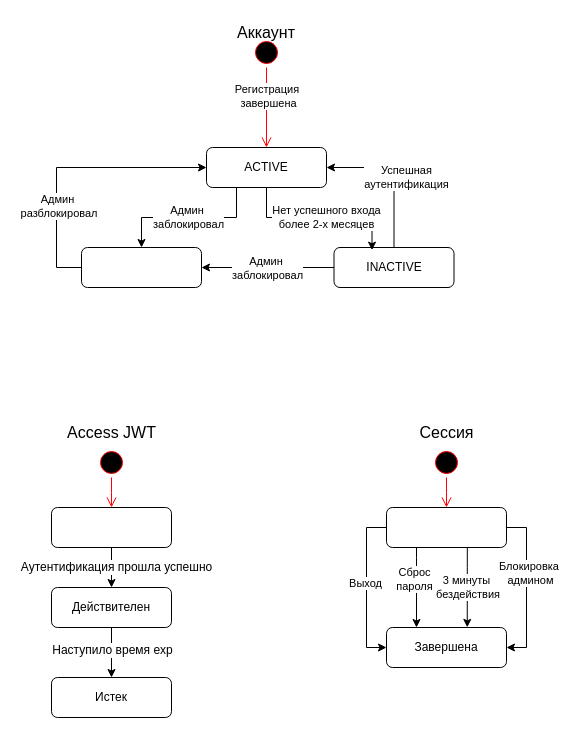
Some shapes in this 579 by 735 pixel diagram are drawn without their labels. The box of each missing label's shape, as (x1, y1, x2, y2) in pixels:
BLOCKED: (80, 246, 202, 288)
Активна: (386, 506, 506, 548)
Не выдан: (50, 506, 172, 548)
